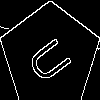U: (25, 30, 81, 87)
